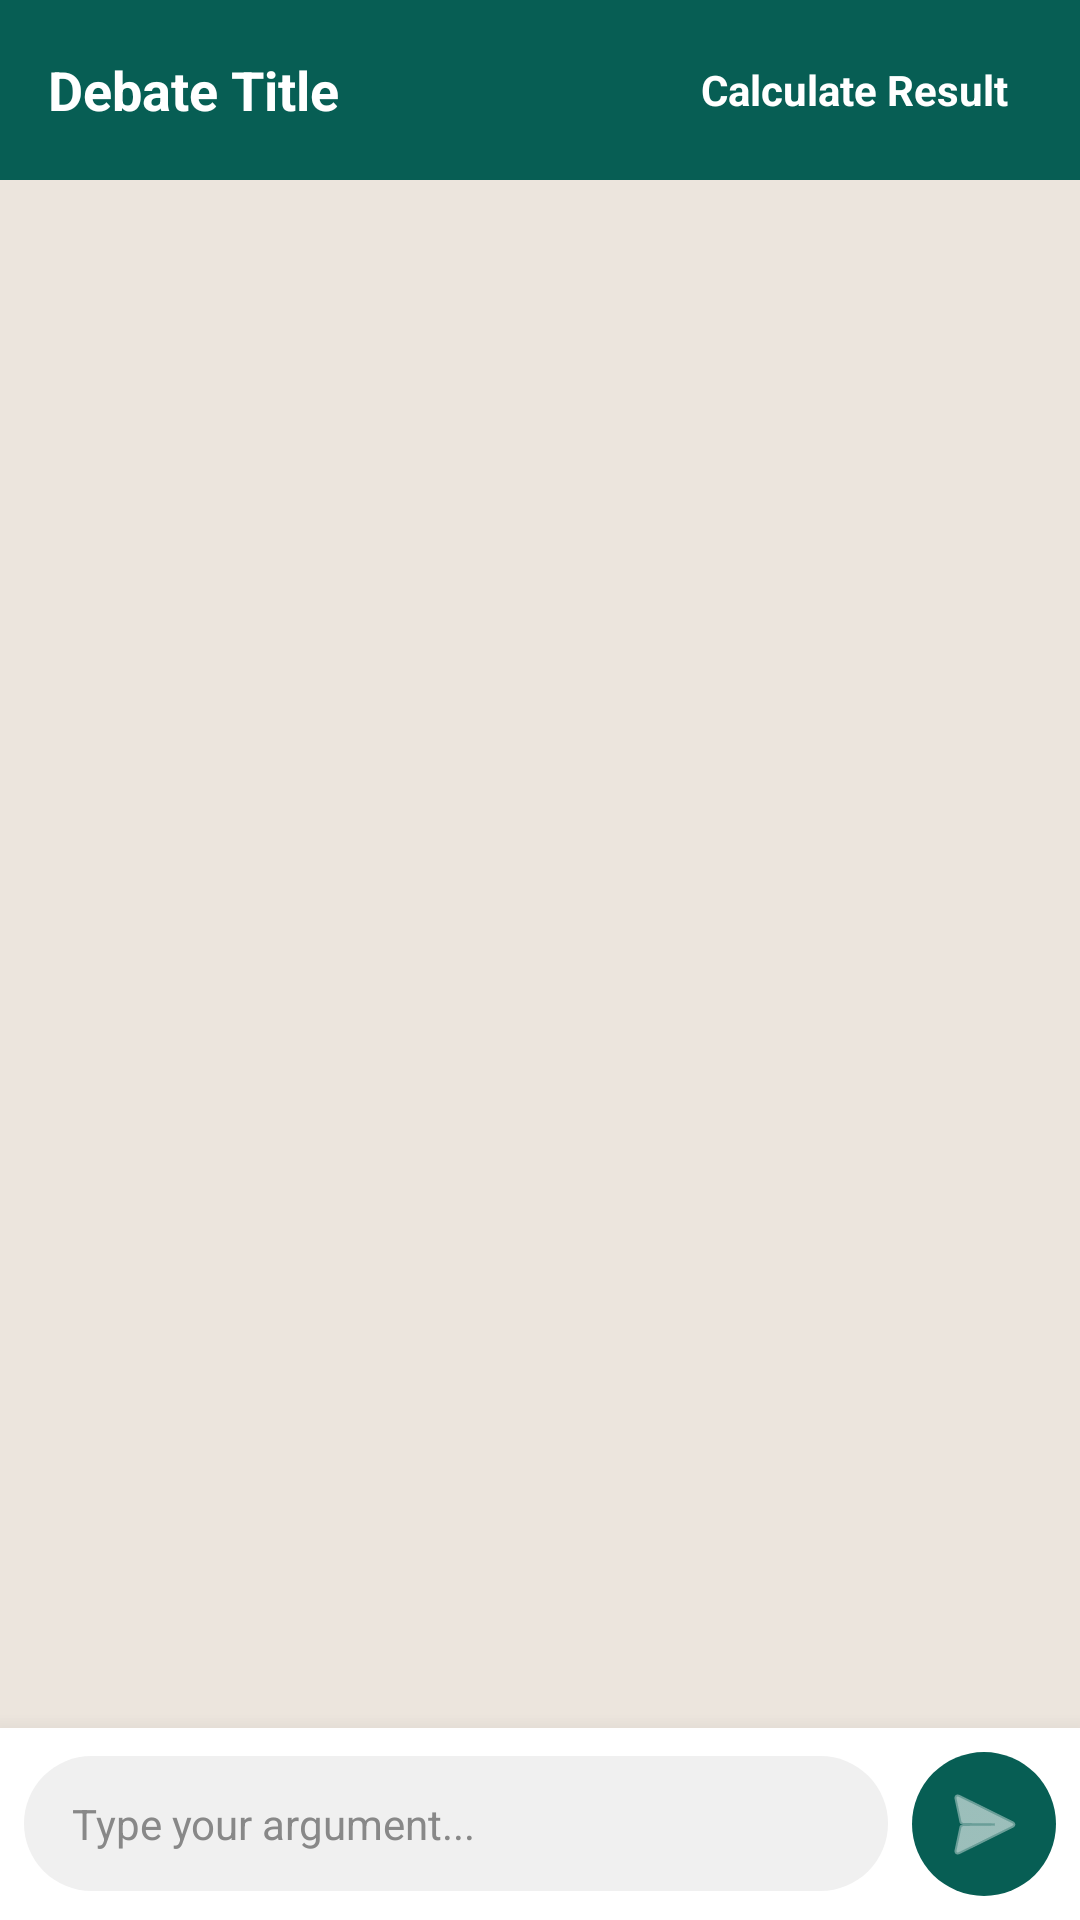

Where icons sit on this 1080*1920 app screen, as bbox=(x1, y1, x2, y2):
send: bbox=(912, 1752, 1056, 1896)
